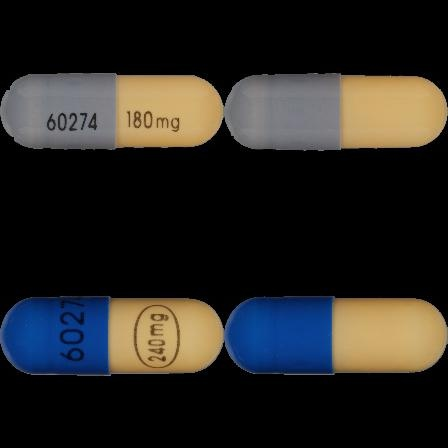0591-2882: (0, 0, 224, 224)
